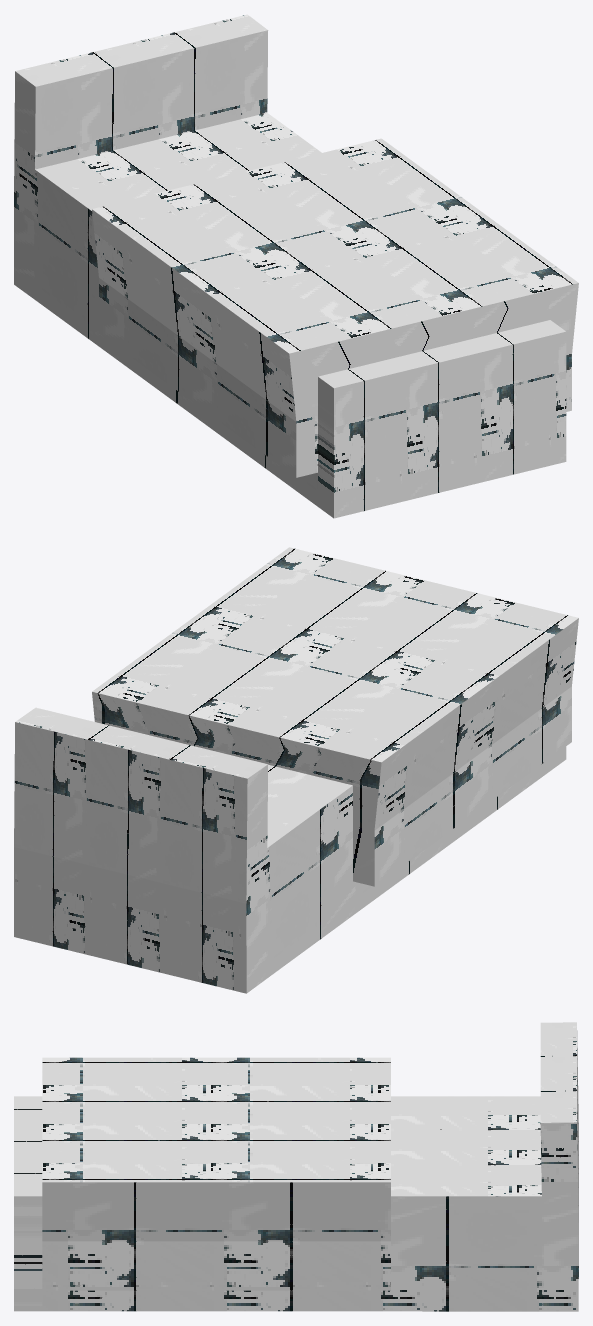
Rendered from SmallBed.FBX.
The picture shows the model from 3 angles, top to bottom: view 1: azimuth 30°, elevation 25°; view 2: azimuth 150°, elevation 25°; view 3: azimuth 270°, elevation 25°; orthographic projection. The views are drawn at different scales.
Visible parts, largest first — view 1: BedSmall; view 2: BedSmall; view 3: BedSmall.
Boxes of the visible parts, left/top/right/bottom form: BedSmall: left=14, top=14, right=578, bottom=518; BedSmall: left=14, top=547, right=578, bottom=993; BedSmall: left=14, top=1022, right=578, bottom=1311.
Size of the model in its own units: 3.08 by 5.89 by 2.18.
Materials: 1 (1 with a texture image).
